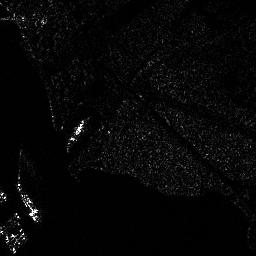ship: (15, 184, 42, 223), (66, 119, 88, 150)
